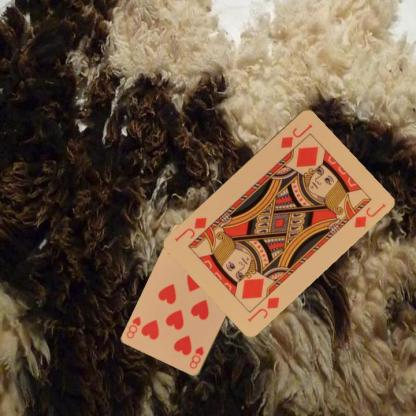8h: (187, 344, 205, 370)
Jd: (245, 294, 281, 324), (278, 121, 314, 150)
